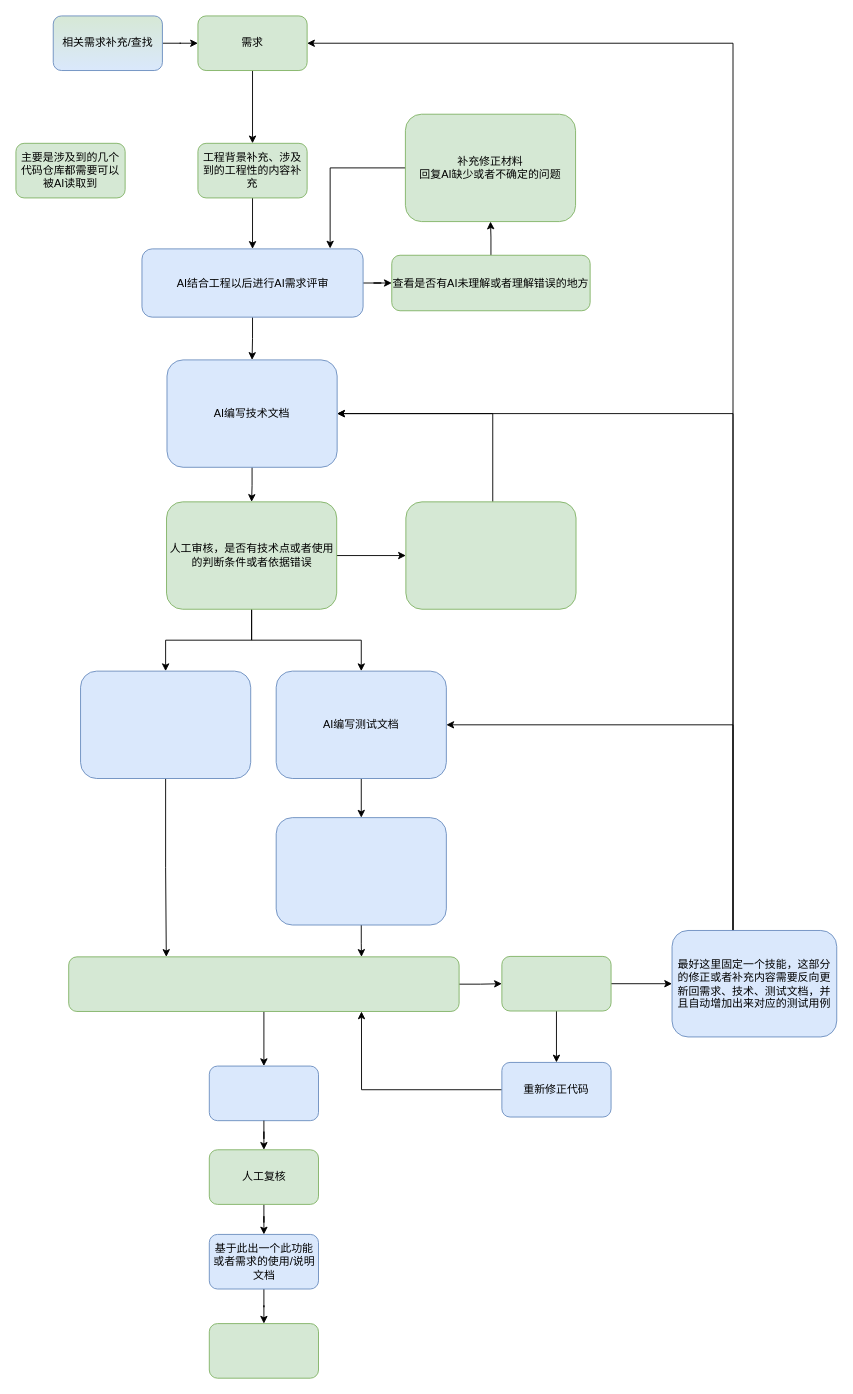
This 853x1394 diagram has some shape labels left out. The shapes that lost their labels are listed below. From the top down, each one's centre as x and y in pixels, then its label:
At pixel 490 555: "订正错误点".
At pixel 165 724: "代码构建".
At pixel 360 871: "测试用例构建".
At pixel 263 983: "人工测试、核验需求是否完成".
At pixel 556 983: "向AI 逐一说明不符合需求或者不合理的地方".
At pixel 263 1093: "需求完成 AI复核上面的内容，重新同步各种文档".
At pixel 263 1350: "复核文档，结束".
